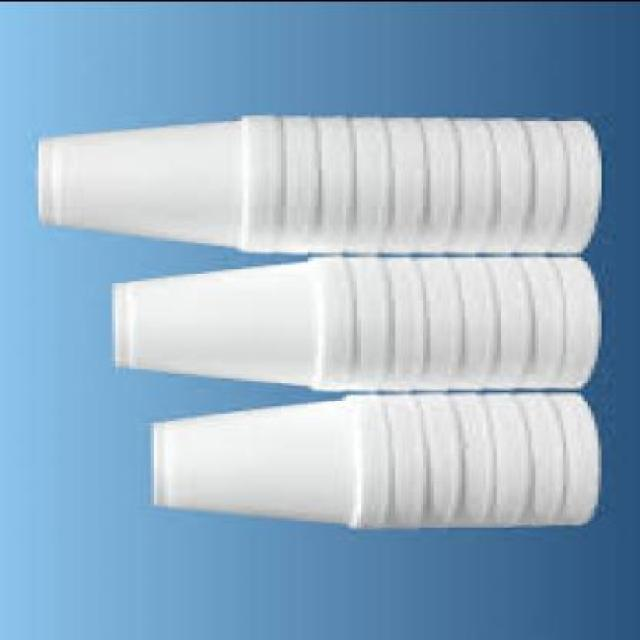PAPER: (39, 111, 602, 252), (139, 389, 595, 533), (105, 251, 598, 384), (31, 111, 284, 252), (109, 251, 353, 386), (147, 391, 388, 526)
